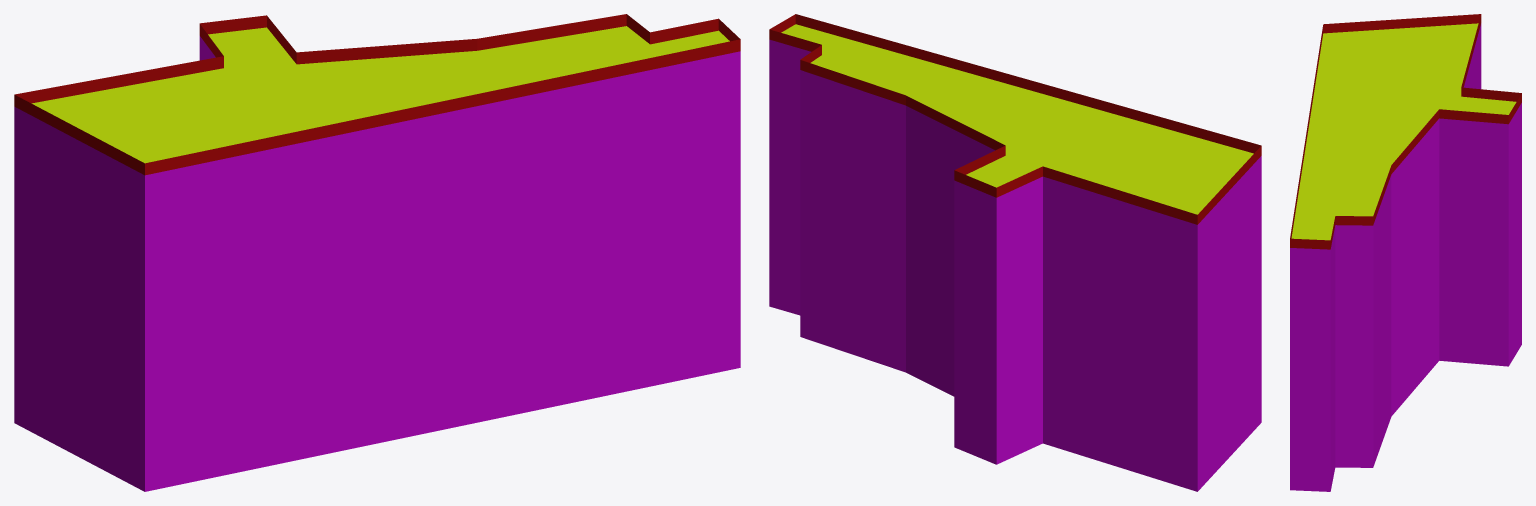
The model's file is scl_3.glb.
3 renders of one model, left to right at view 1: azimuth 30°, elevation 25°; view 2: azimuth 150°, elevation 25°; view 3: azimuth 270°, elevation 25°, orthographic. The views are drawn at different scales.
Visible parts, largest first — view 1: scl_3; view 2: scl_3; view 3: scl_3.
Part boxes in pixels (x1,y1,x2,y2): scl_3: (14,14,740,491); scl_3: (769,14,1261,491); scl_3: (1290,14,1521,491).
Size of the model in its own units: 18.43 by 9.55 by 7.98.
